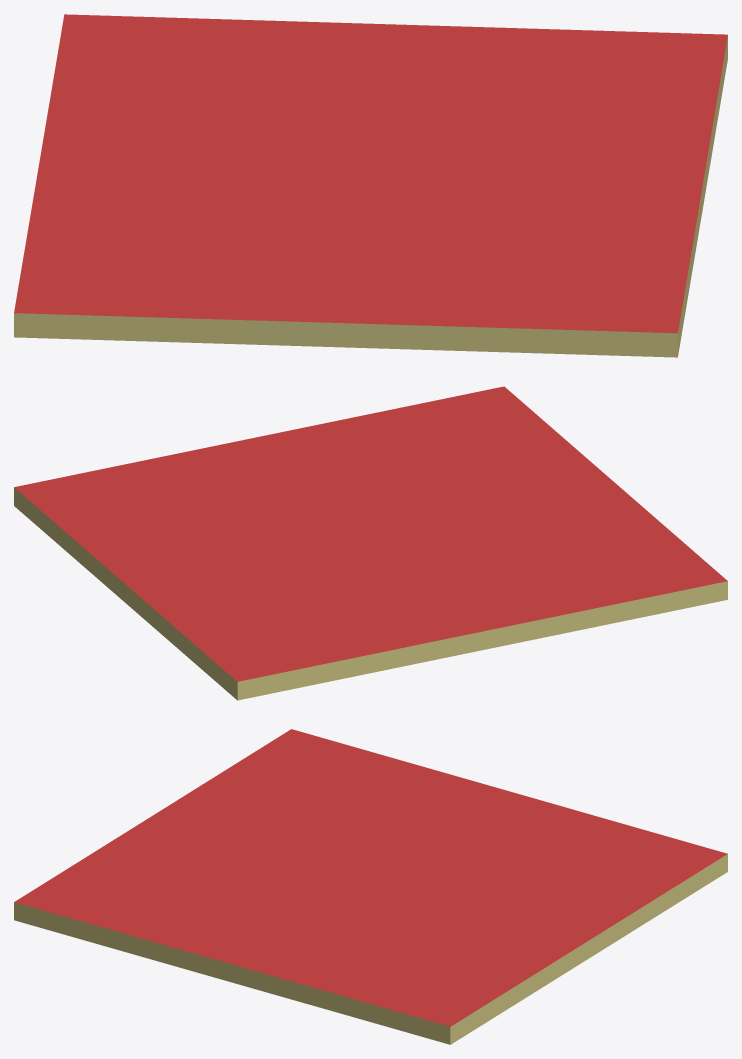
The picture shows the model from 3 angles, top to bottom: view 1: azimuth 30°, elevation 25°; view 2: azimuth 150°, elevation 25°; view 3: azimuth 270°, elevation 25°; orthographic projection. The views are drawn at different scales.
Visible parts, largest first — view 1: group_3, group_4; view 2: group_3, group_4; view 3: group_3, group_4.
Part boxes in pixels (x1,y1,x2,y2): group_3: (14,14,727,333); group_4: (14,36,727,357); group_3: (14,386,727,681); group_4: (14,487,727,700); group_3: (14,729,727,1026); group_4: (14,854,727,1044).
Size of the model in its own units: 3.54 by 3.58 by 0.1.
